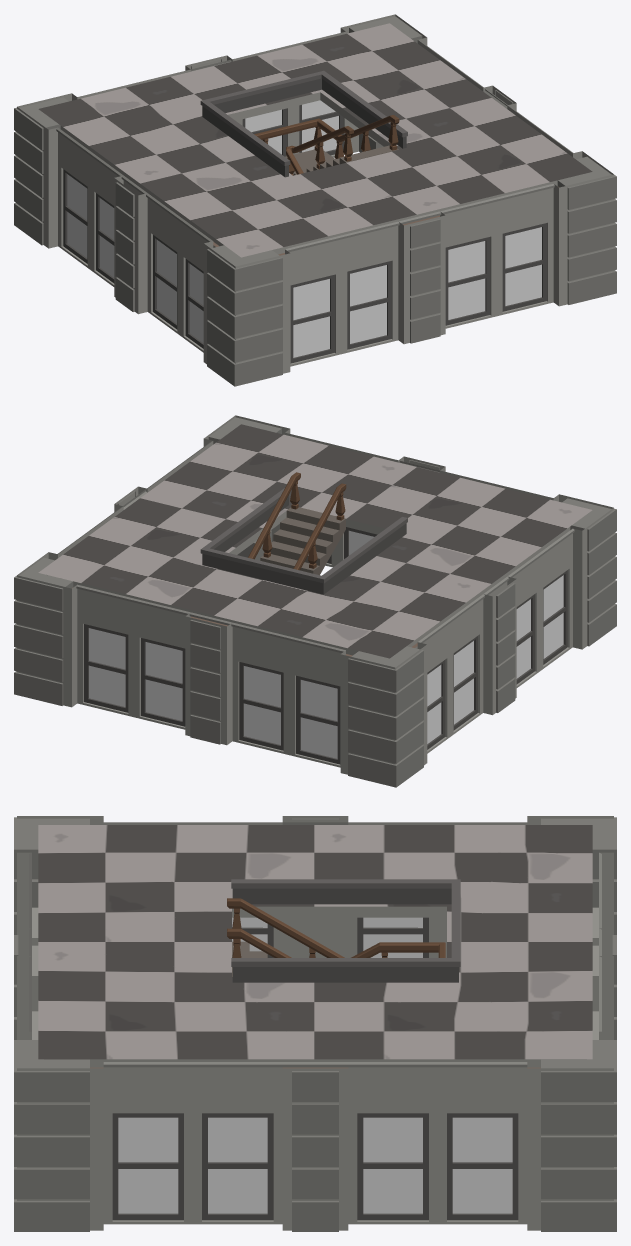
Rendered from SM_Bldg_City_High-Rise_04_Mid_03.fbx.
3 renders of one model, top to bottom at view 1: azimuth 30°, elevation 25°; view 2: azimuth 150°, elevation 25°; view 3: azimuth 270°, elevation 25°, orthographic. The views are drawn at different scales.
Visible parts, largest first — view 1: SM_Bldg_City_High-Rise_04_Mid_03, SM_Bldg_City_High-Rise_04_Mid_03_Glass; view 2: SM_Bldg_City_High-Rise_04_Mid_03, SM_Bldg_City_High-Rise_04_Mid_03_Glass; view 3: SM_Bldg_City_High-Rise_04_Mid_03, SM_Bldg_City_High-Rise_04_Mid_03_Glass.
Boxes of the visible parts, x1=… form: SM_Bldg_City_High-Rise_04_Mid_03: x1=14, y1=14, x2=616, y2=386; SM_Bldg_City_High-Rise_04_Mid_03_Glass: x1=67, y1=100, x2=541, y2=357; SM_Bldg_City_High-Rise_04_Mid_03: x1=14, y1=415, x2=616, y2=787; SM_Bldg_City_High-Rise_04_Mid_03_Glass: x1=89, y1=530, x2=563, y2=758; SM_Bldg_City_High-Rise_04_Mid_03: x1=14, y1=816, x2=616, y2=1231; SM_Bldg_City_High-Rise_04_Mid_03_Glass: x1=118, y1=917, x2=512, y2=1213.
Bounding box in the file's own units: 1010 × 384 × 1010.
